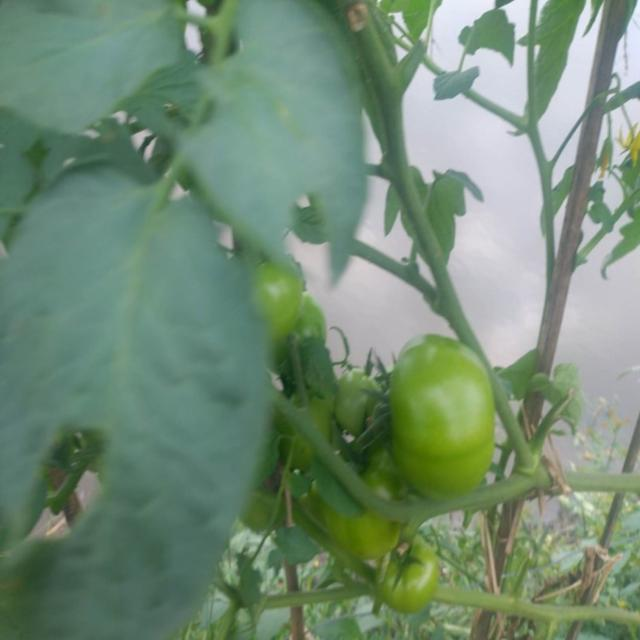tomato: (390, 337, 501, 494), (327, 498, 401, 563), (381, 546, 443, 615), (263, 252, 303, 345), (337, 366, 381, 432)
